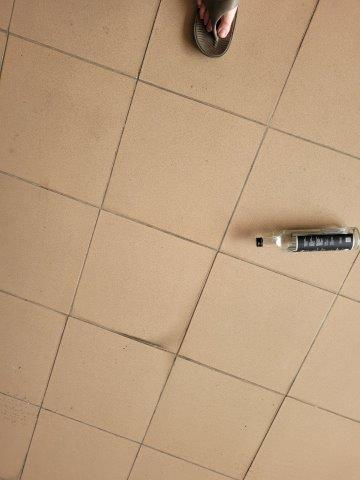botolkaca: (254, 227, 360, 255)
